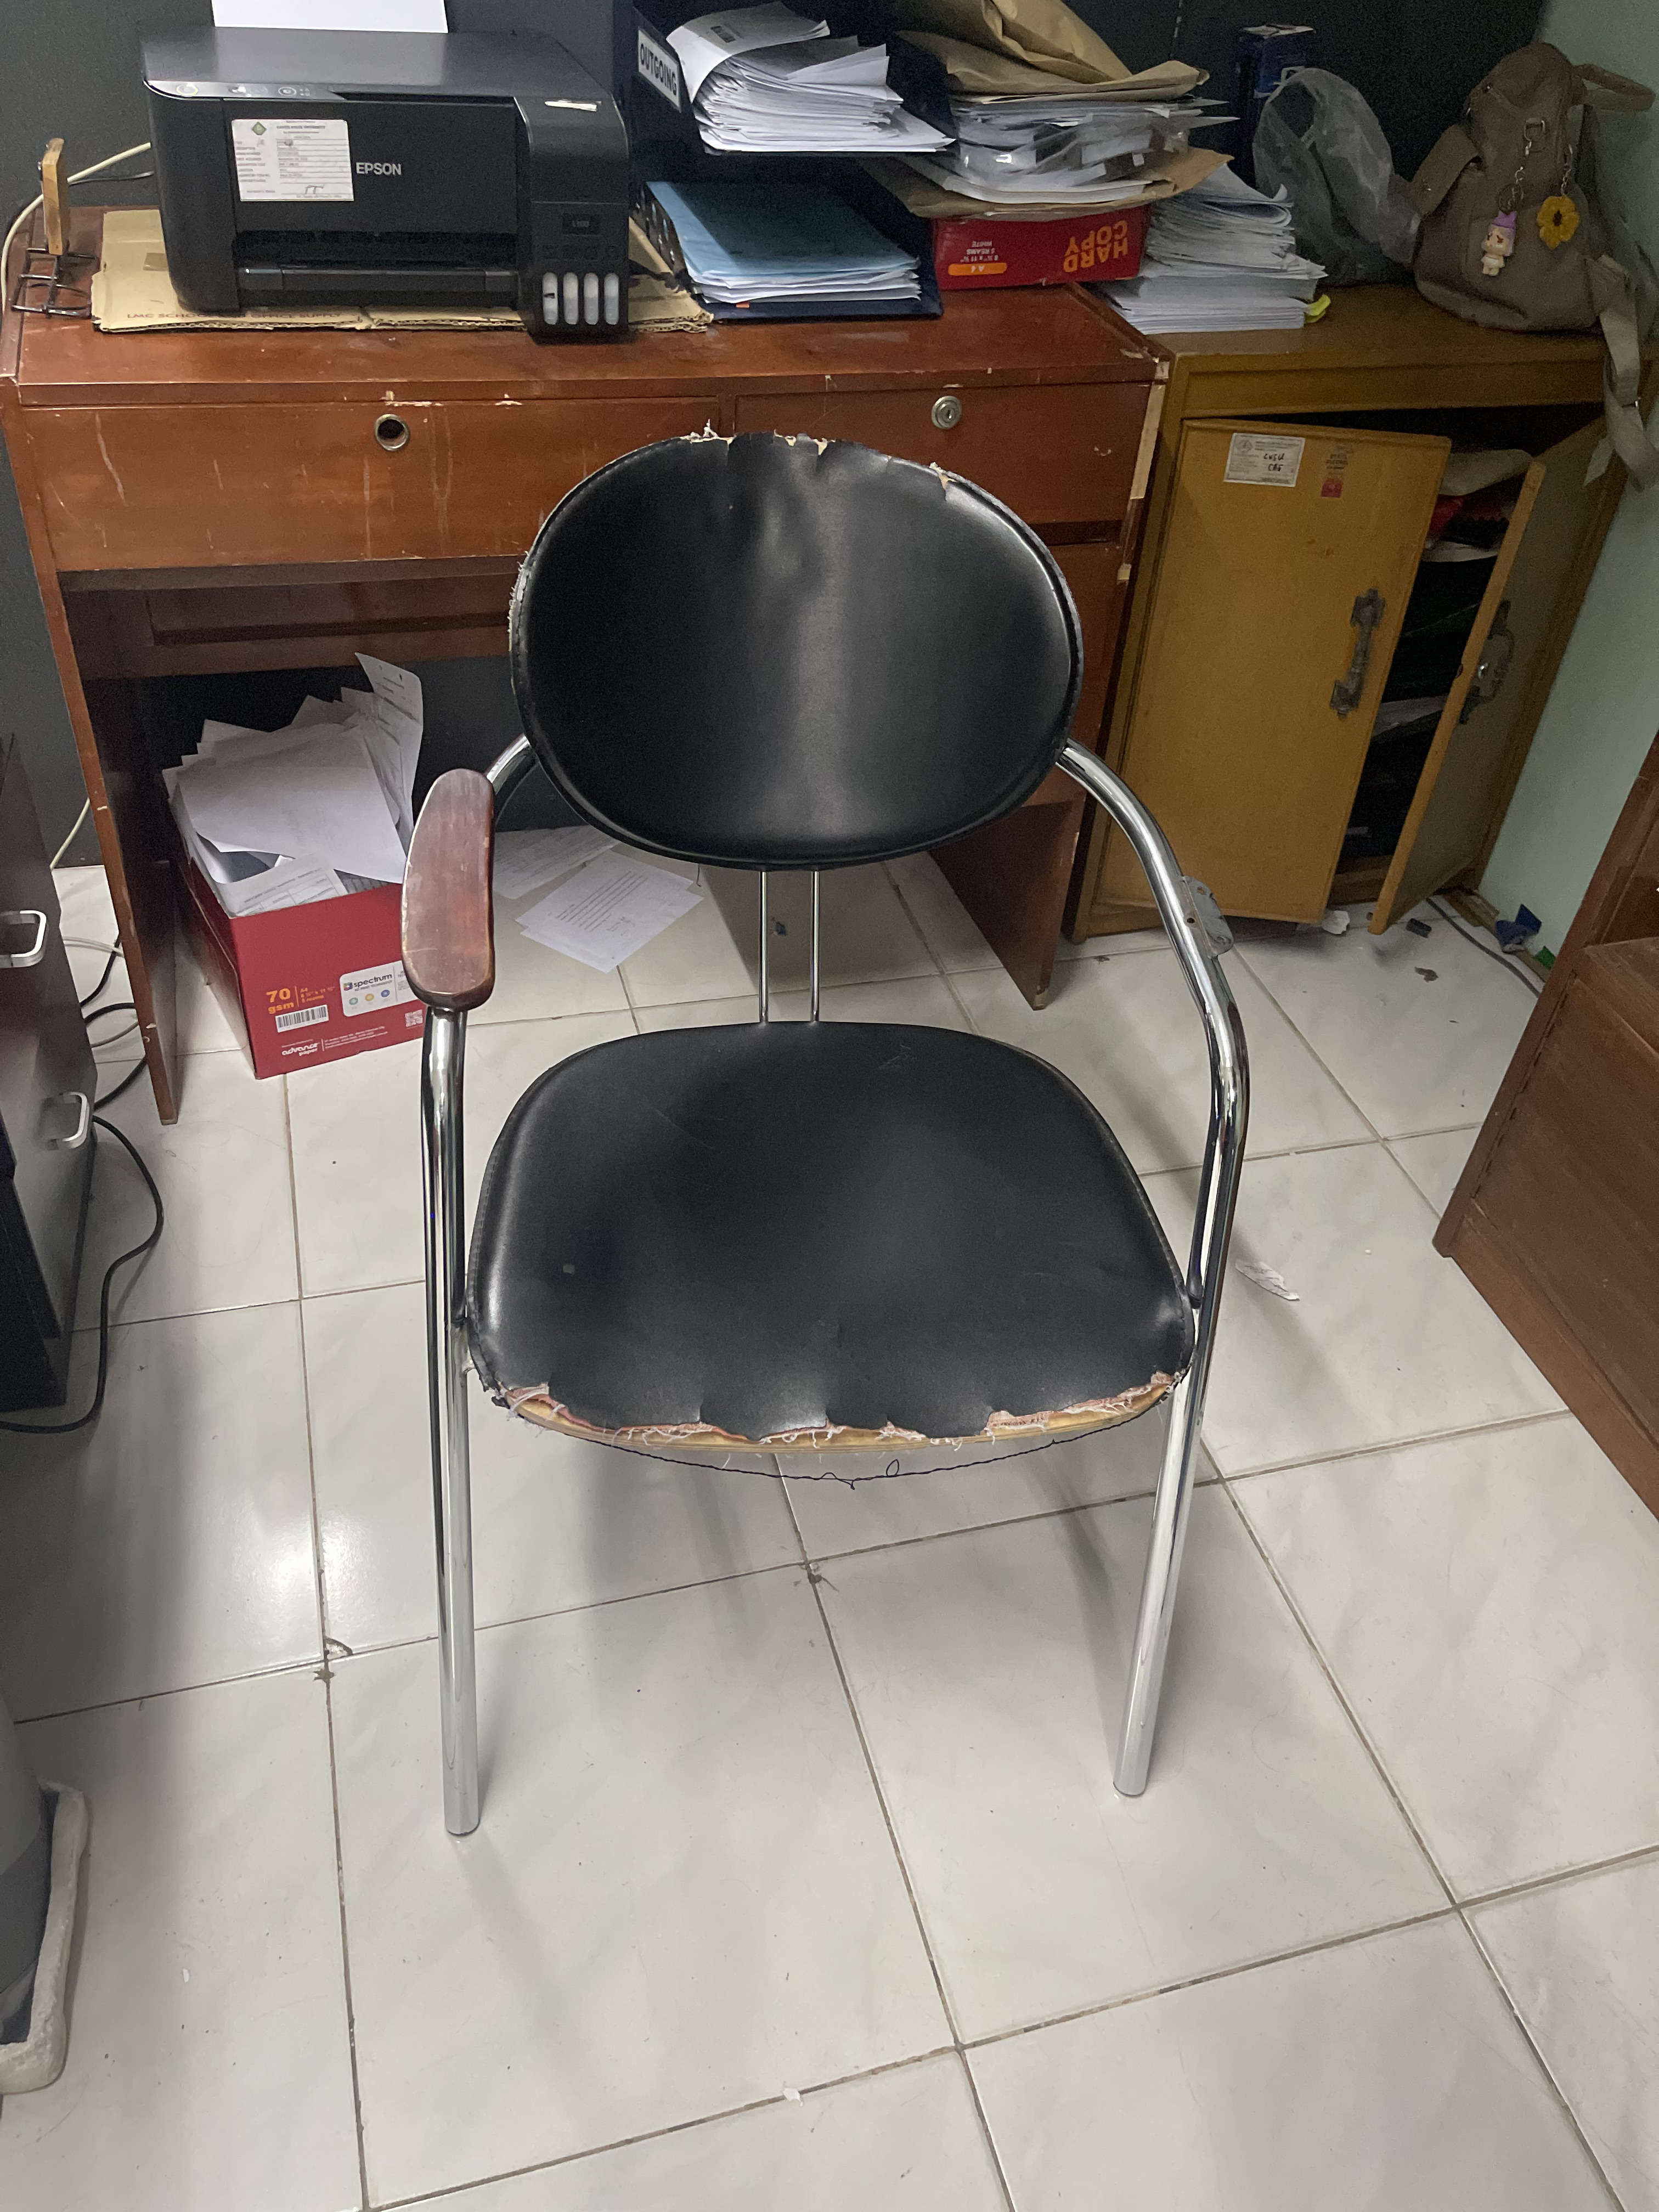chair1: (396, 427, 1256, 1843)
